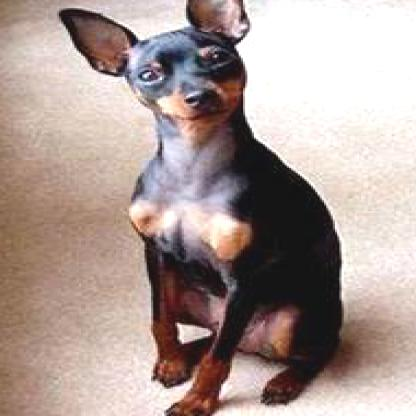dog: (54, 0, 342, 415)
